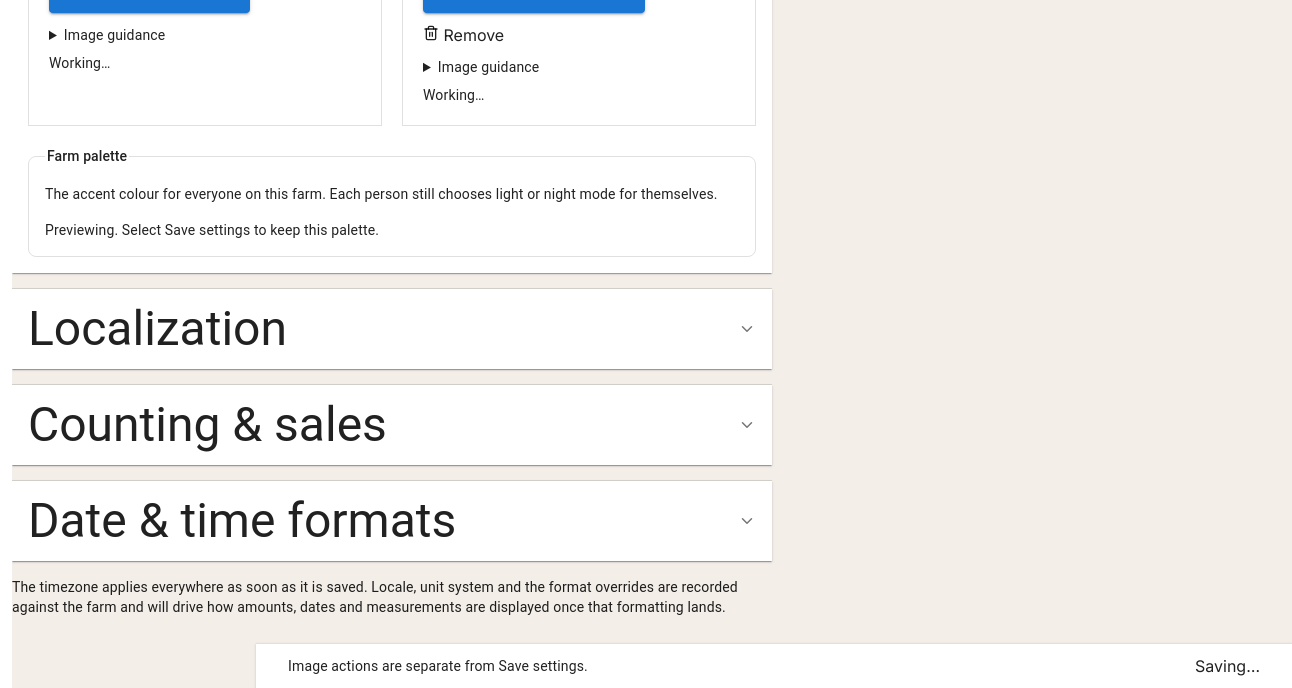
it: SettingsPage expandable sections › expands Localization independently of the other sections
The image size is (1292, 688).
(page scrolled)
Click the button "Localization": (157, 328) [12,289,772,369]
(page scrolled)
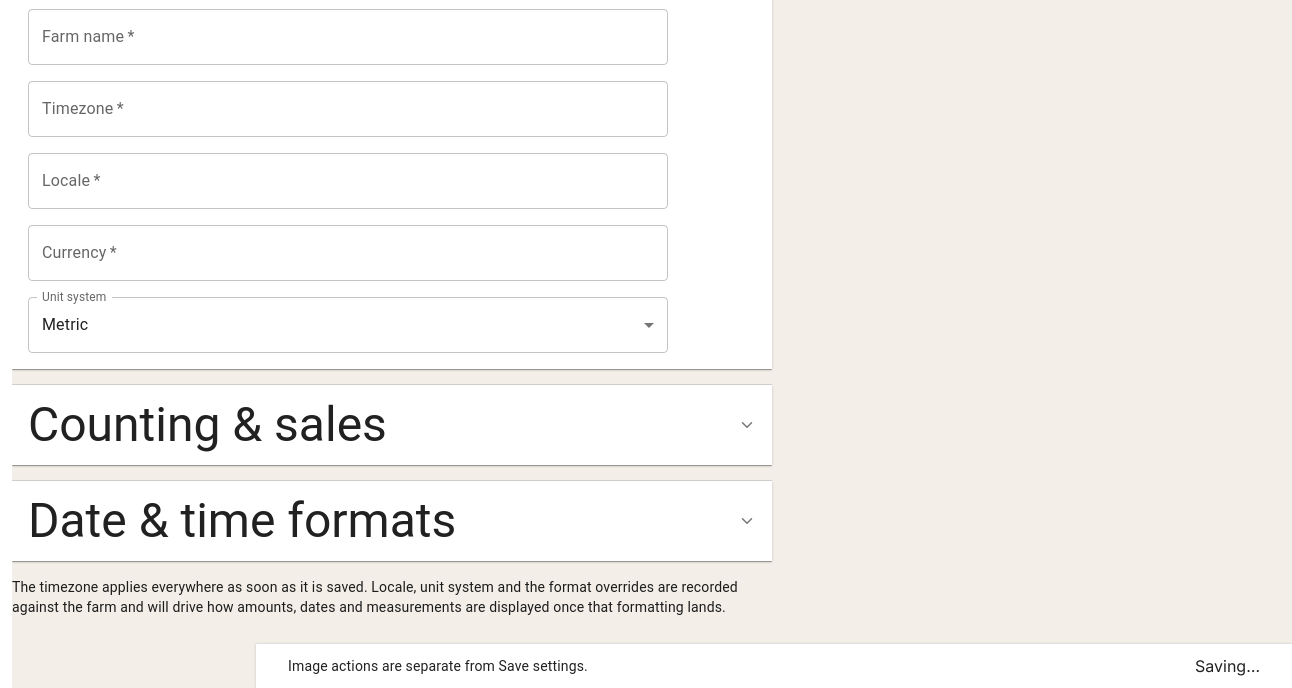
Expected: the field labelled "Farm name *" is shown, [28,9,668,65]
